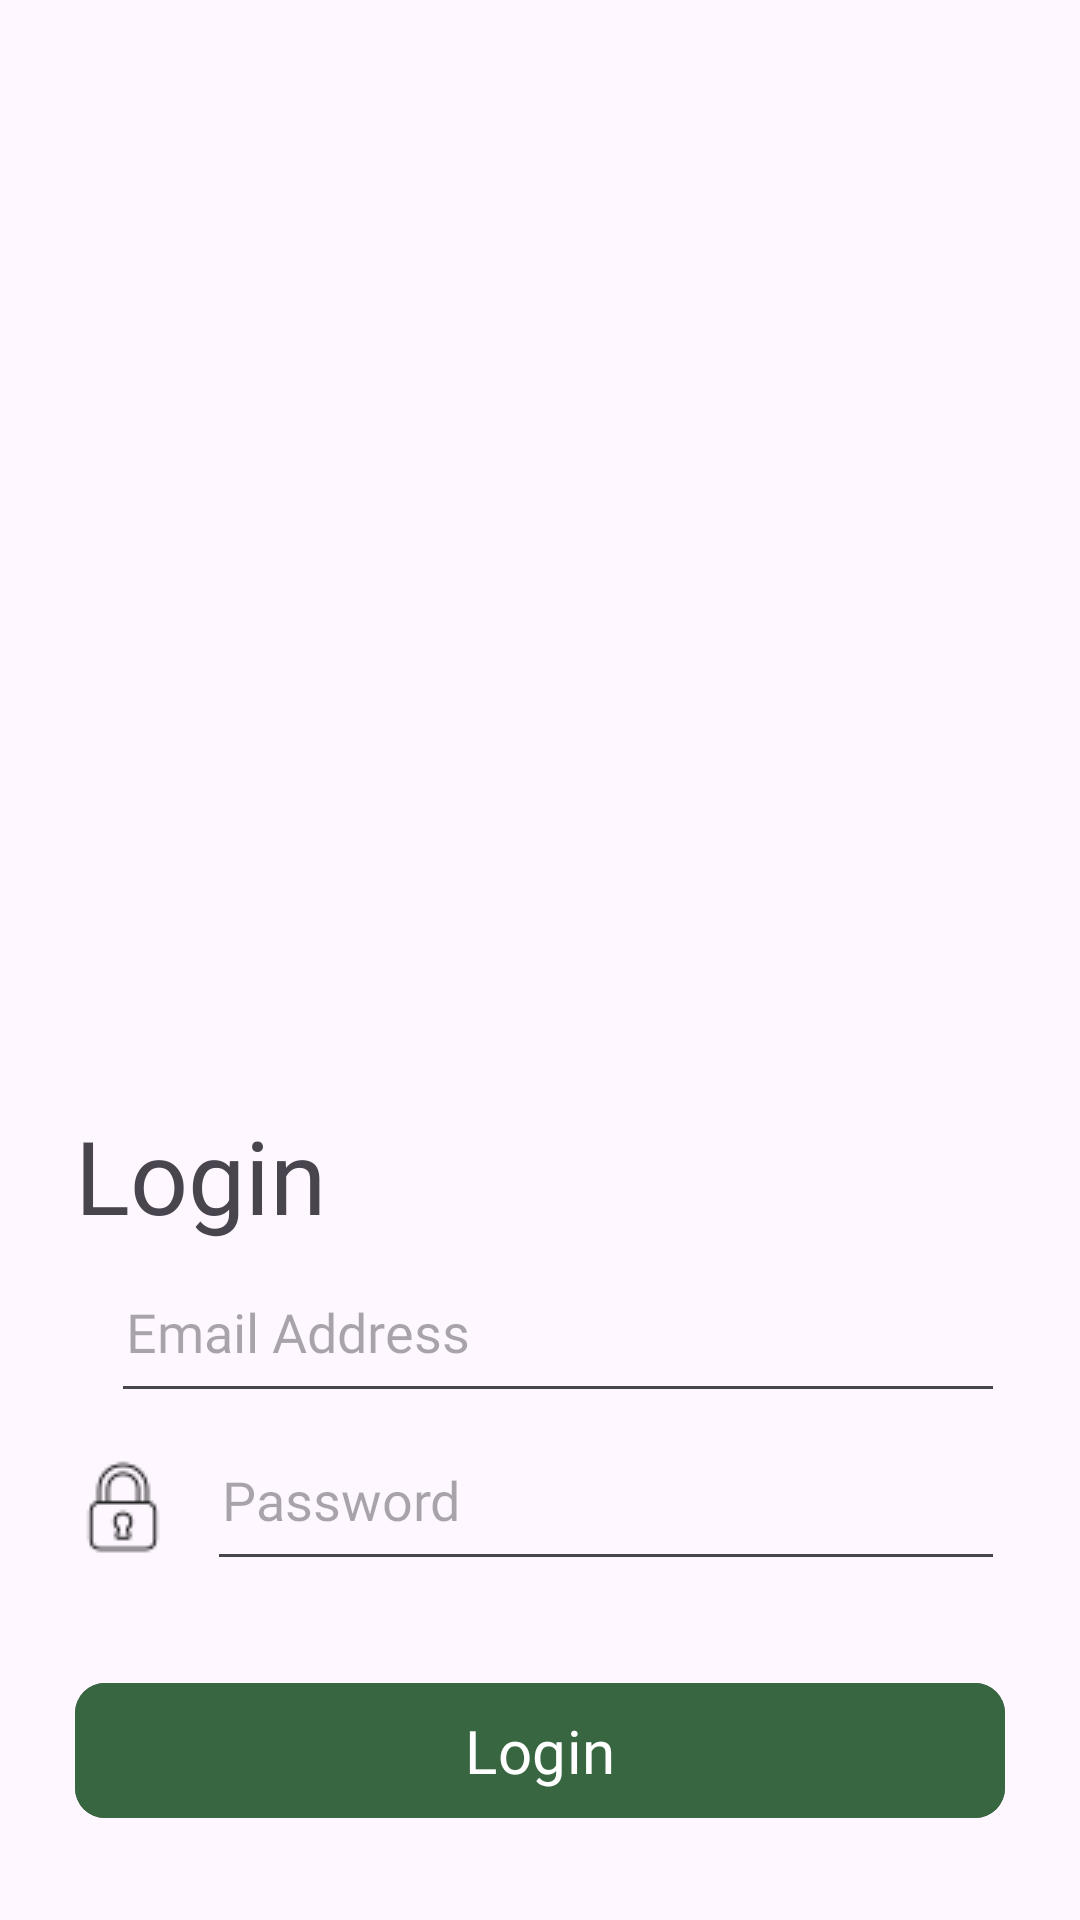

Icons on this 1080×1920 Android screen, each with its box as (x1, y1, x2, y2):
lock: (87, 1461, 159, 1553)
